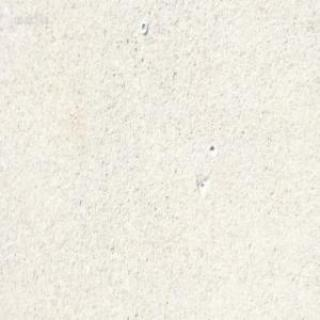Washertrack_idkeyframe: (139, 19, 147, 34)
